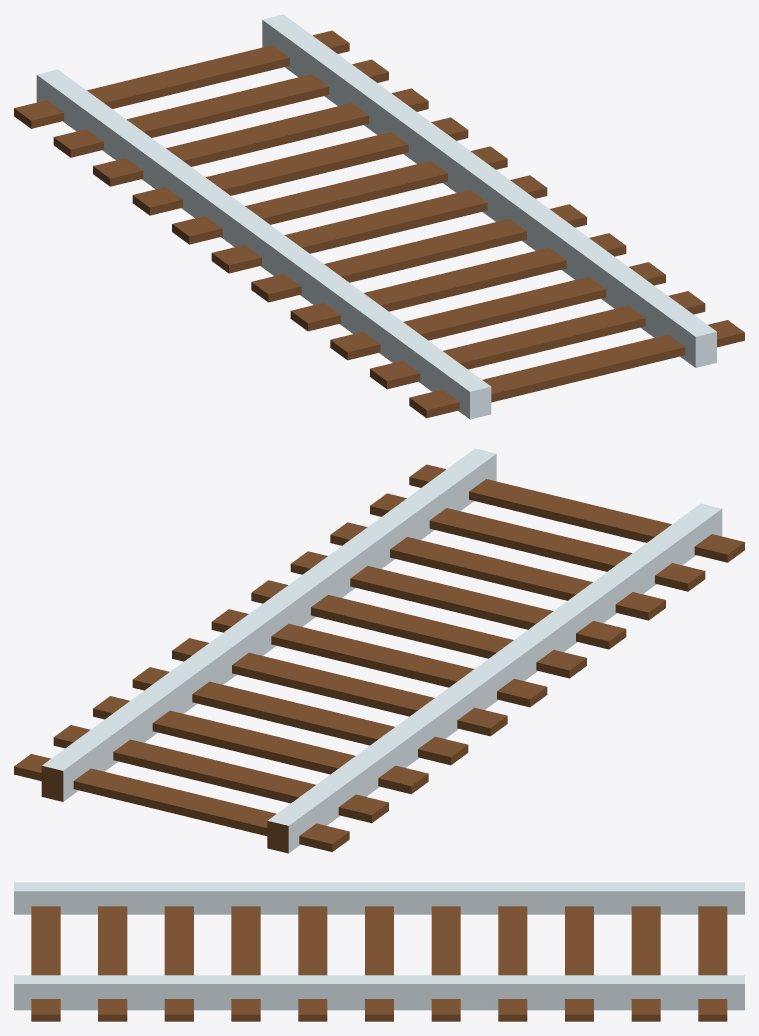
The model's file is BaseRails.fbx.
3 renders of one model, top to bottom at view 1: azimuth 30°, elevation 25°; view 2: azimuth 150°, elevation 25°; view 3: azimuth 270°, elevation 25°, orthographic. The views are drawn at different scales.
Visible parts, largest first — view 1: Base rails; view 2: Base rails; view 3: Base rails.
Boxes of the visible parts, bbox=[...] form: Base rails: bbox=[14, 14, 744, 419]; Base rails: bbox=[14, 448, 744, 853]; Base rails: bbox=[14, 882, 744, 1021].
Size of the model in its own units: 165 by 15.38 by 388.
